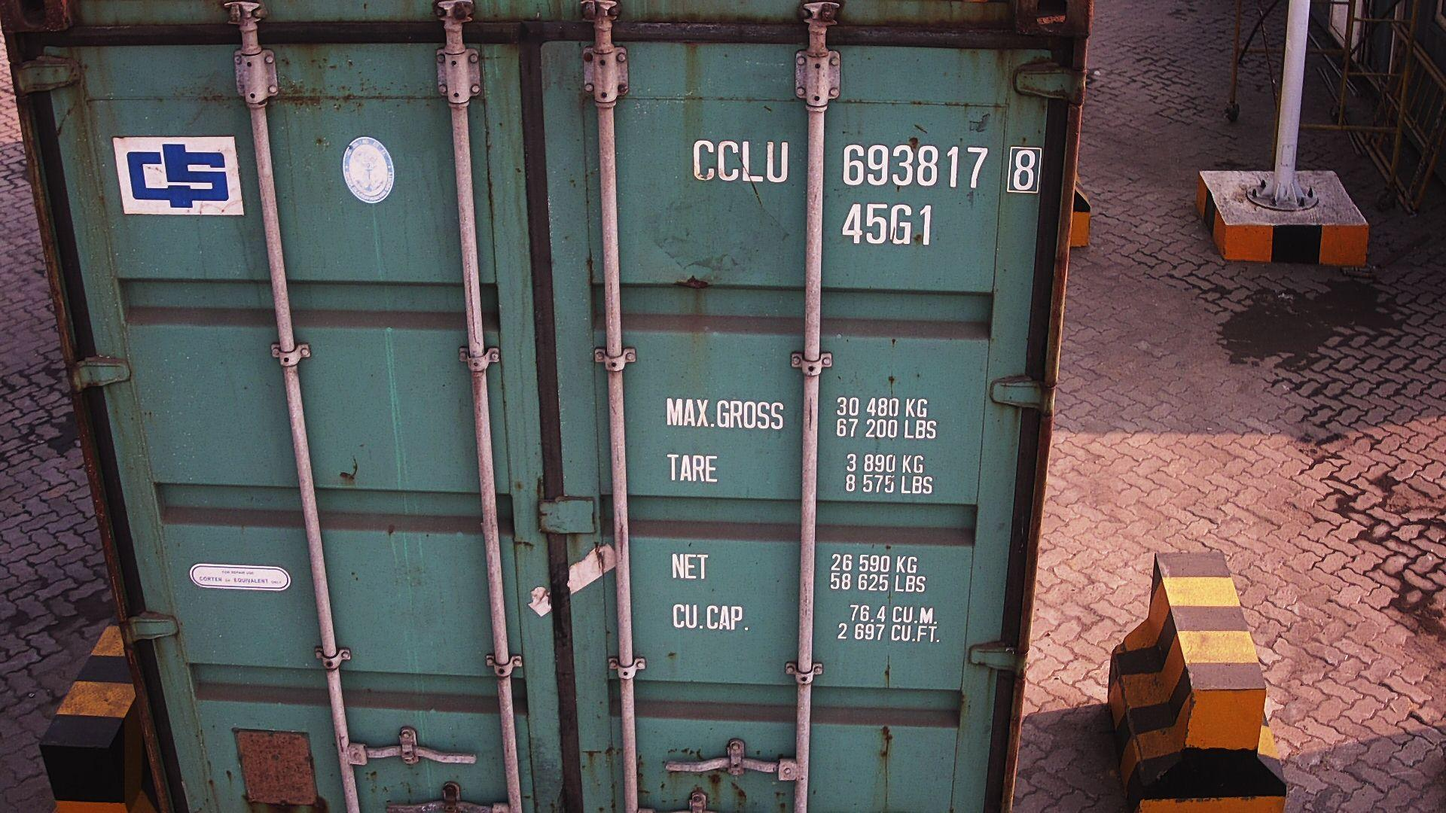container-numbers: (686, 136, 1048, 196), (837, 199, 936, 249)
